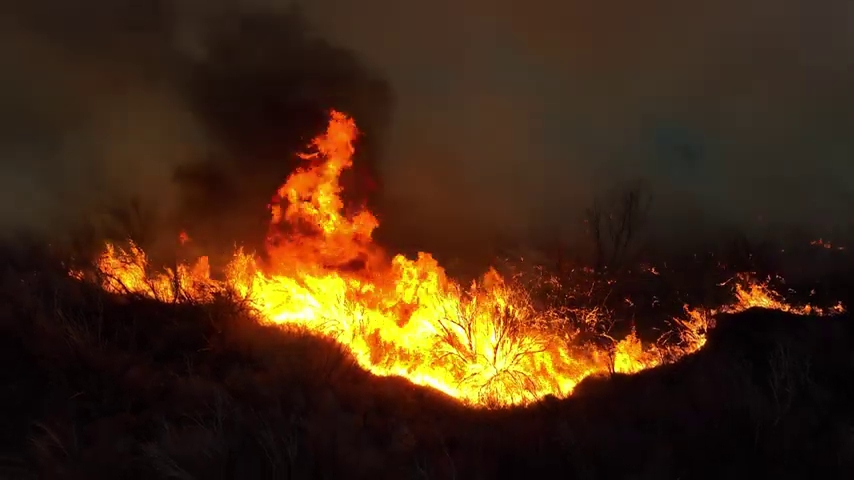forest_fire: (96, 111, 825, 405), (180, 234, 189, 242), (833, 305, 841, 309), (74, 272, 77, 273)
